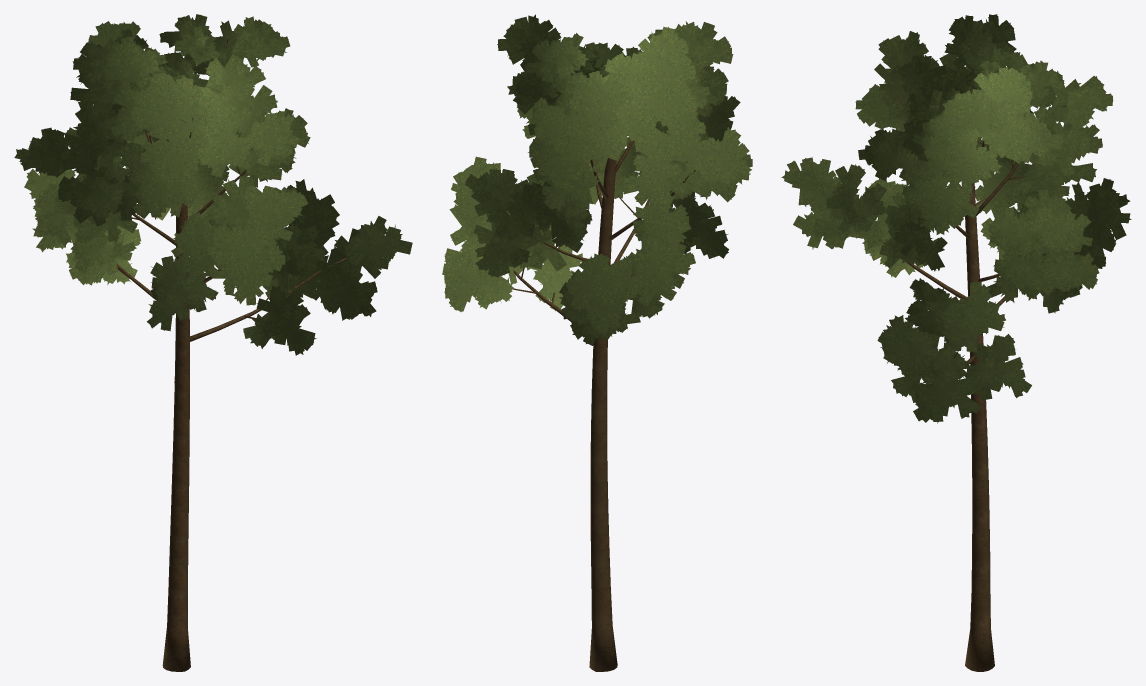
Rendered from pine_open_v03.fbx.
The picture shows the model from 3 angles, left to right: view 1: azimuth 30°, elevation 25°; view 2: azimuth 150°, elevation 25°; view 3: azimuth 270°, elevation 25°; orthographic projection. The views are drawn at different scales.
Parts seen in each view (by area): view 1: pine_open_v03; view 2: pine_open_v03; view 3: pine_open_v03.
Part boxes in pixels (bbox=[...]): pine_open_v03: bbox=[14, 14, 412, 671]; pine_open_v03: bbox=[442, 14, 752, 671]; pine_open_v03: bbox=[781, 14, 1131, 671].
Size of the model in its own units: 1559 by 1443 by 2828.
Materials: 2 (2 with a texture image).
